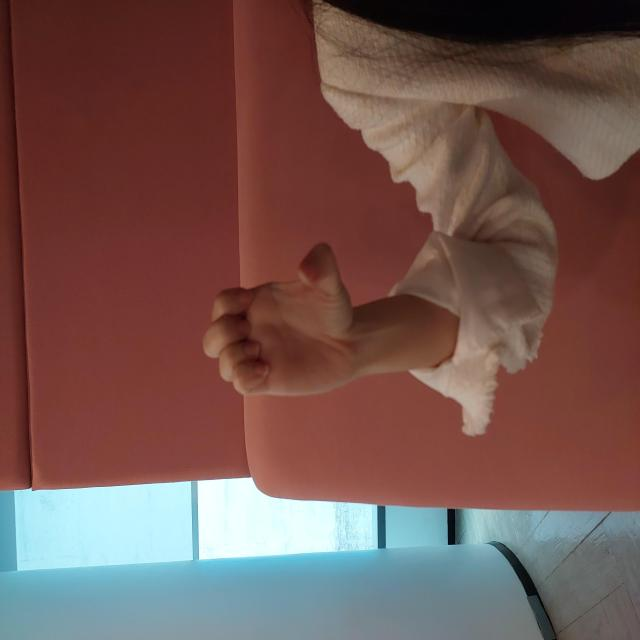E: (246, 201, 400, 353)
